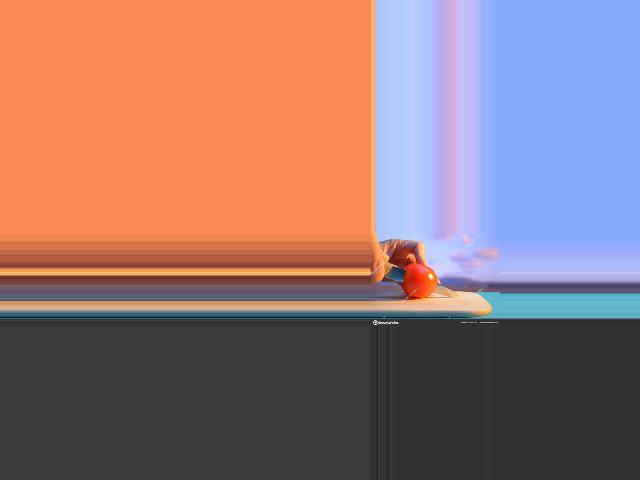tomato: (401, 264, 438, 299)
